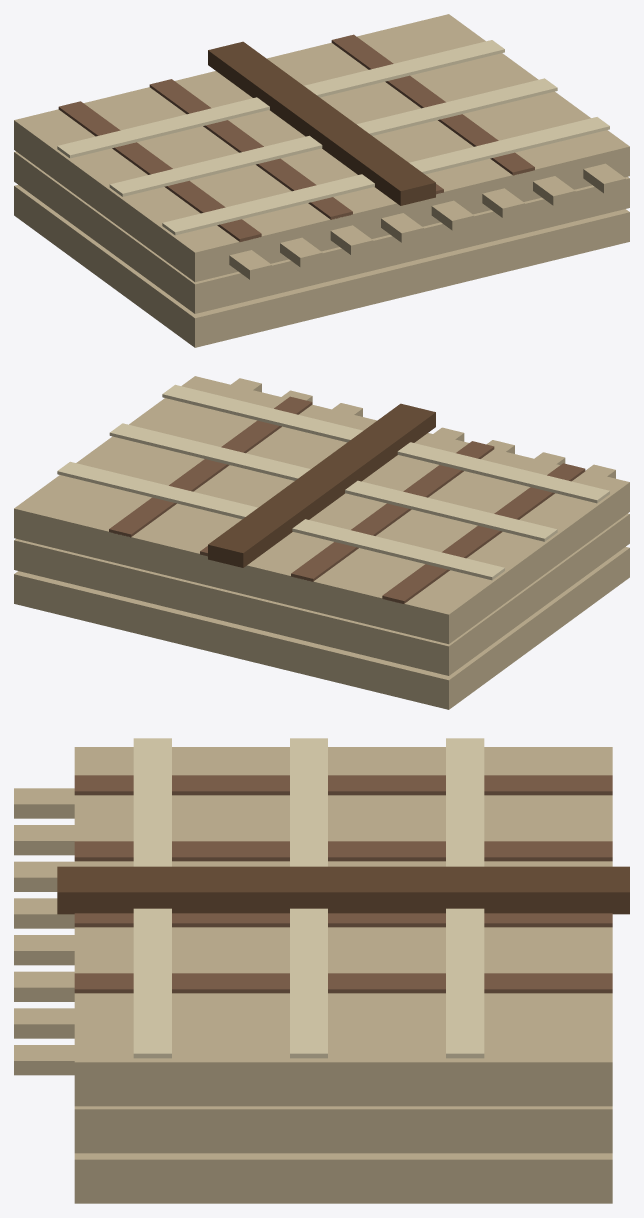
Rendered from b17_folded_picnic_blanket.glb.
3 views of the same model, one above another, from view 1: azimuth 30°, elevation 25°; view 2: azimuth 150°, elevation 25°; view 3: azimuth 270°, elevation 25° (orthographic). The views are drawn at different scales.
Parts seen in each view (by area): view 1: b17_folded_picnic_blanket; view 2: b17_folded_picnic_blanket; view 3: b17_folded_picnic_blanket.
Boxes of the visible parts, bbox=[...] form: b17_folded_picnic_blanket: bbox=[14, 14, 629, 347]; b17_folded_picnic_blanket: bbox=[14, 376, 629, 709]; b17_folded_picnic_blanket: bbox=[14, 738, 629, 1203].
Size of the model in its own units: 0.43 by 0.106 by 0.355.
